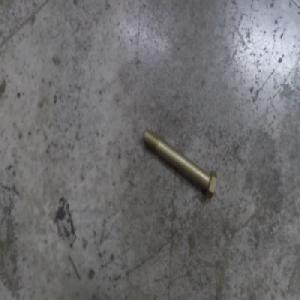Bolt: (143, 127, 217, 203)
